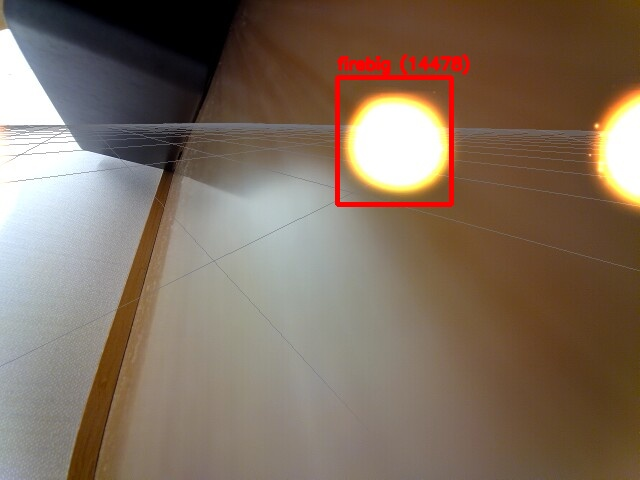firebig: (337, 77, 451, 204)
